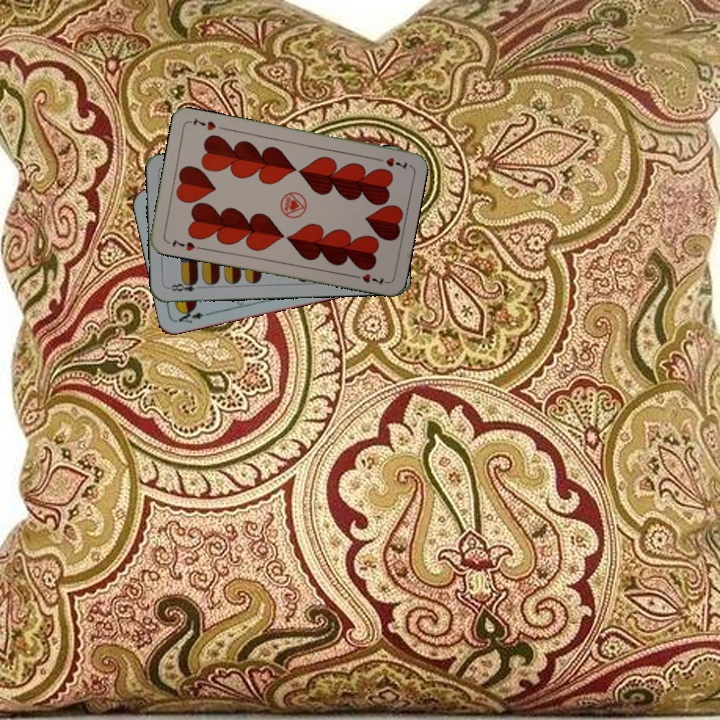E8: (165, 277, 200, 294)
EA: (174, 305, 213, 326)
H7: (371, 153, 412, 172), (168, 235, 197, 253)
